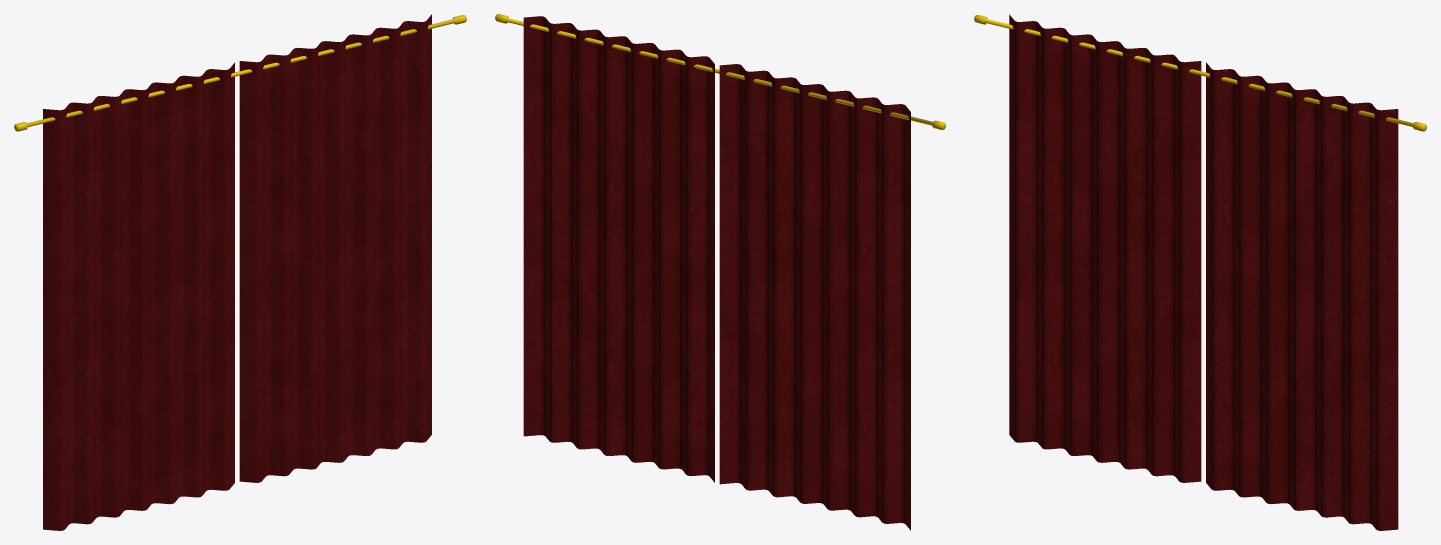
File: curtain-6.glb
3 views of the same model, side by side, from view 1: azimuth 30°, elevation 25°; view 2: azimuth 150°, elevation 25°; view 3: azimuth 330°, elevation 25° (orthographic).
Parts seen in each view (by area): view 1: vip-curtains_0; view 2: vip-curtains_0; view 3: vip-curtains_0.
Boxes of the visible parts, x1=… form: vip-curtains_0: x1=14, y1=14, x2=466, y2=530; vip-curtains_0: x1=495, y1=14, x2=945, y2=530; vip-curtains_0: x1=974, y1=14, x2=1426, y2=530.
Size of the model in its own units: 9.85 by 8.8 by 0.2312.
2 materials, 1 textured.
